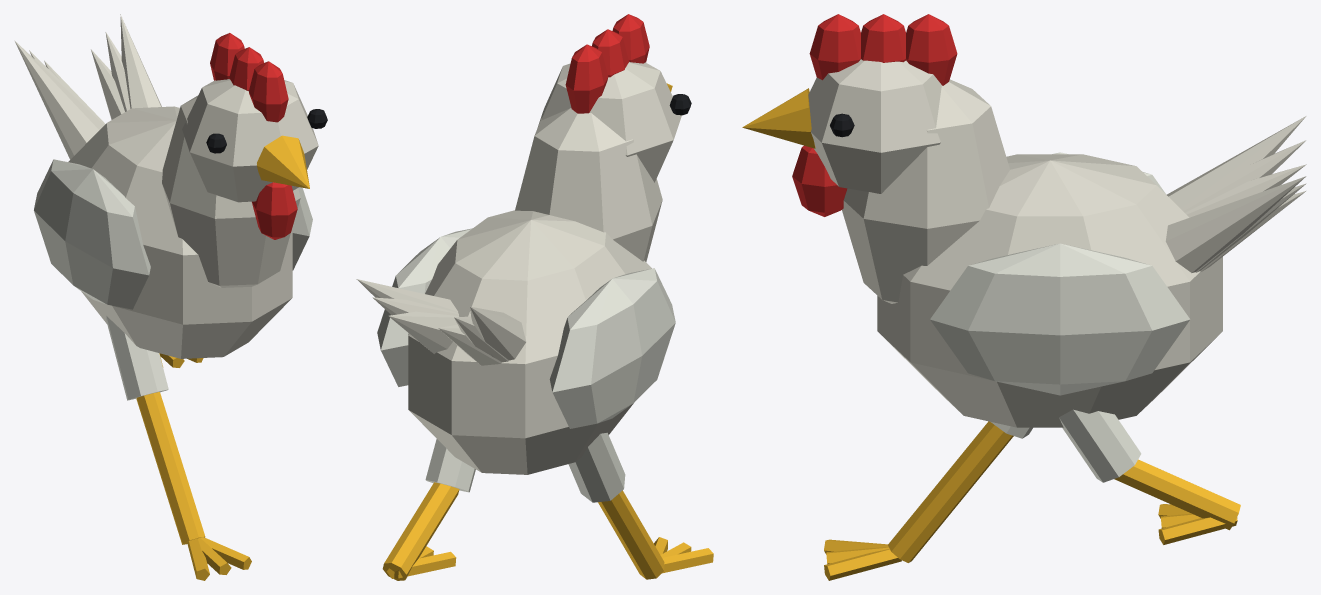
File: chicken.glb
3 views of the same model, side by side, from view 1: azimuth 30°, elevation 25°; view 2: azimuth 150°, elevation 25°; view 3: azimuth 270°, elevation 25° (orthographic). The views are drawn at different scales.
Parts seen in each view (by area): view 1: chicken body; view 2: chicken body; view 3: chicken body.
Part boxes in pixels (left/top/right/bottom): chicken body: left=14, top=14, right=327, bottom=580; chicken body: left=356, top=14, right=713, bottom=580; chicken body: left=742, top=14, right=1306, bottom=580.
Size of the model in its own units: 0.2267 by 0.5 by 0.4408.
